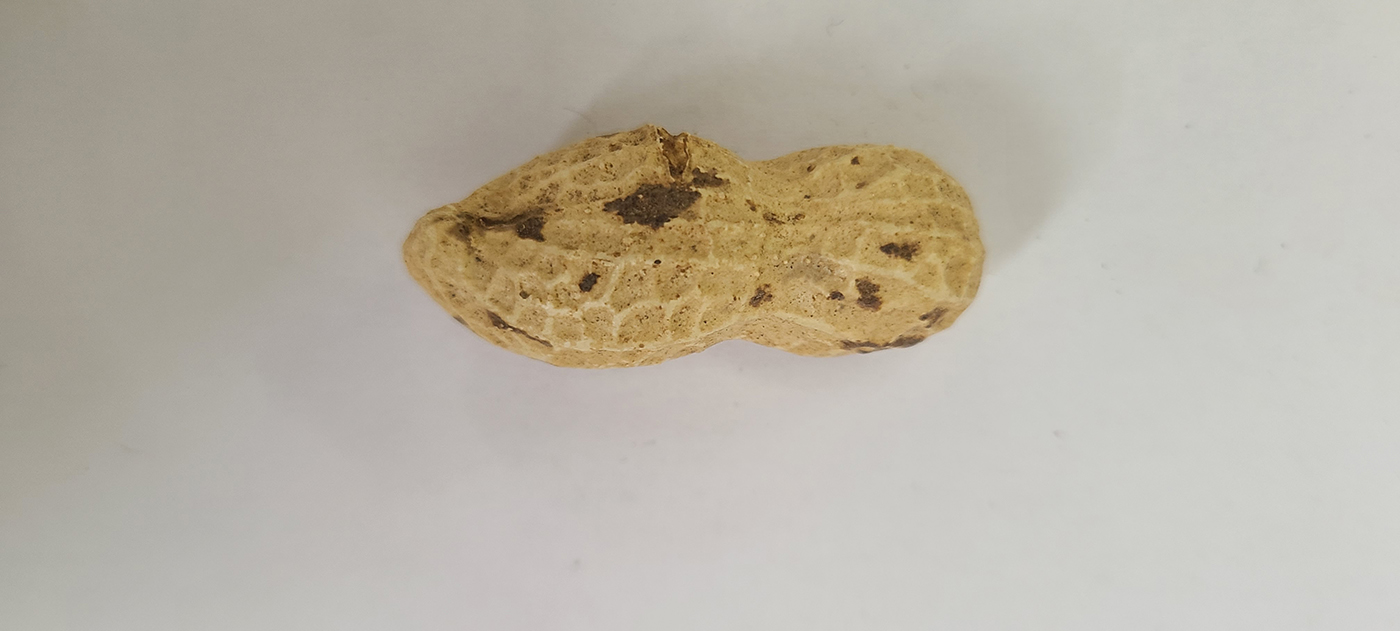h: (400, 126, 990, 363)
